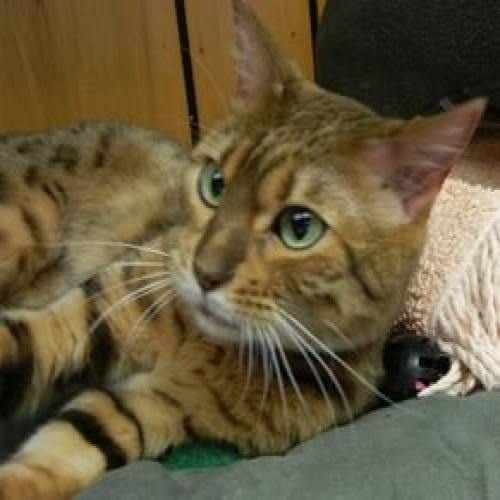bengal: (159, 1, 488, 383)
